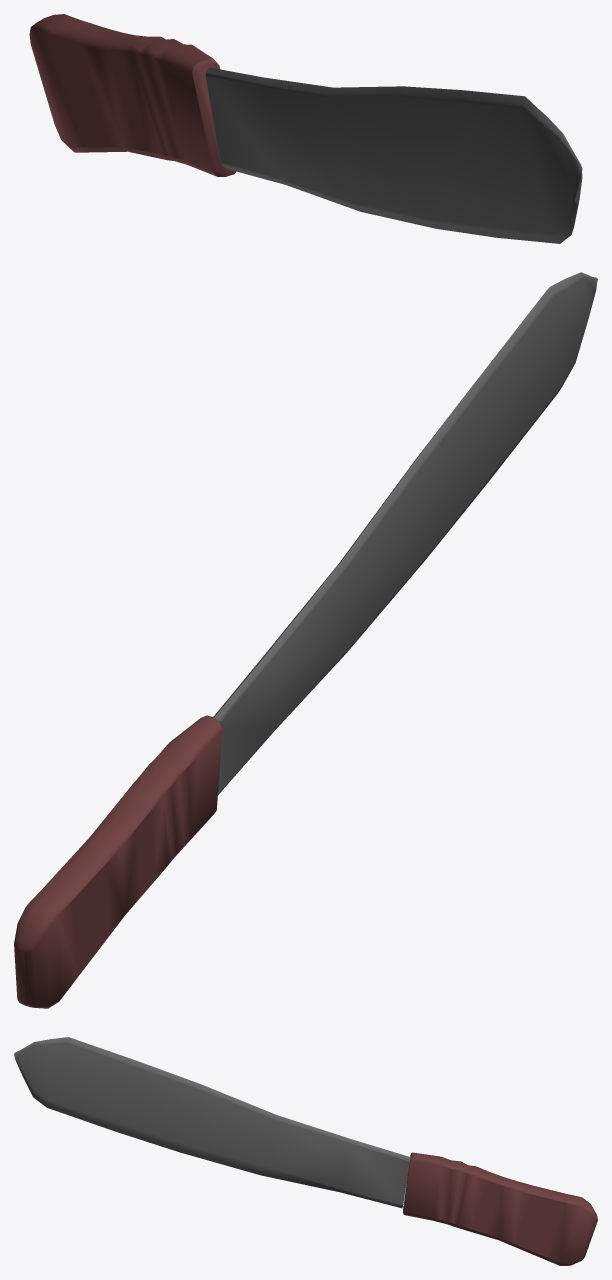
File: machete01.fbx
3 views of the same model, one above another, from view 1: azimuth 30°, elevation 25°; view 2: azimuth 150°, elevation 25°; view 3: azimuth 270°, elevation 25° (orthographic). The views are drawn at different scales.
Parts seen in each view (by area): view 1: polySurface2; view 2: polySurface2; view 3: polySurface2.
Part boxes in pixels (bbox=[...]): polySurface2: bbox=[29, 14, 582, 243]; polySurface2: bbox=[14, 272, 597, 1008]; polySurface2: bbox=[14, 1037, 597, 1265].
Bounding box in the file's own units: 112 × 613 × 1518.
